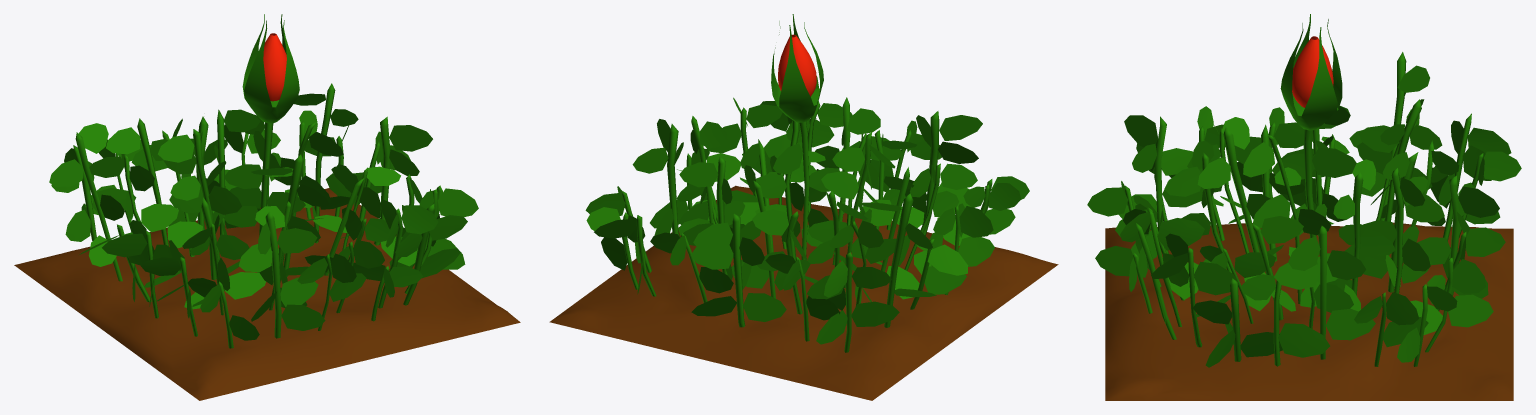
File: red-rose-p2-leaf.glb
The picture shows the model from 3 angles, left to right: view 1: azimuth 30°, elevation 25°; view 2: azimuth 150°, elevation 25°; view 3: azimuth 270°, elevation 25°; orthographic projection. The views are drawn at different scales.
Visible parts, largest first — view 1: 2_nft_out_of_bloom; view 2: 2_nft_out_of_bloom; view 3: 2_nft_out_of_bloom.
Boxes of the visible parts, x1=… form: 2_nft_out_of_bloom: x1=14, y1=14, x2=520, y2=400; 2_nft_out_of_bloom: x1=549, y1=14, x2=1058, y2=400; 2_nft_out_of_bloom: x1=1087, y1=14, x2=1521, y2=400.
Size of the model in its own units: 0.751 by 0.5686 by 0.7455.
